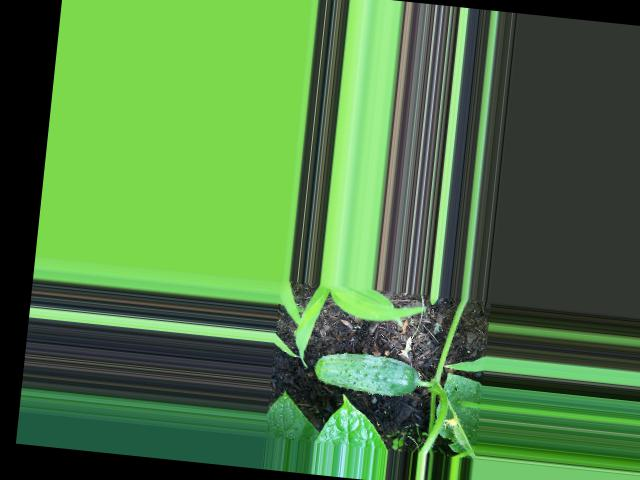cucumber: (311, 348, 421, 398)
